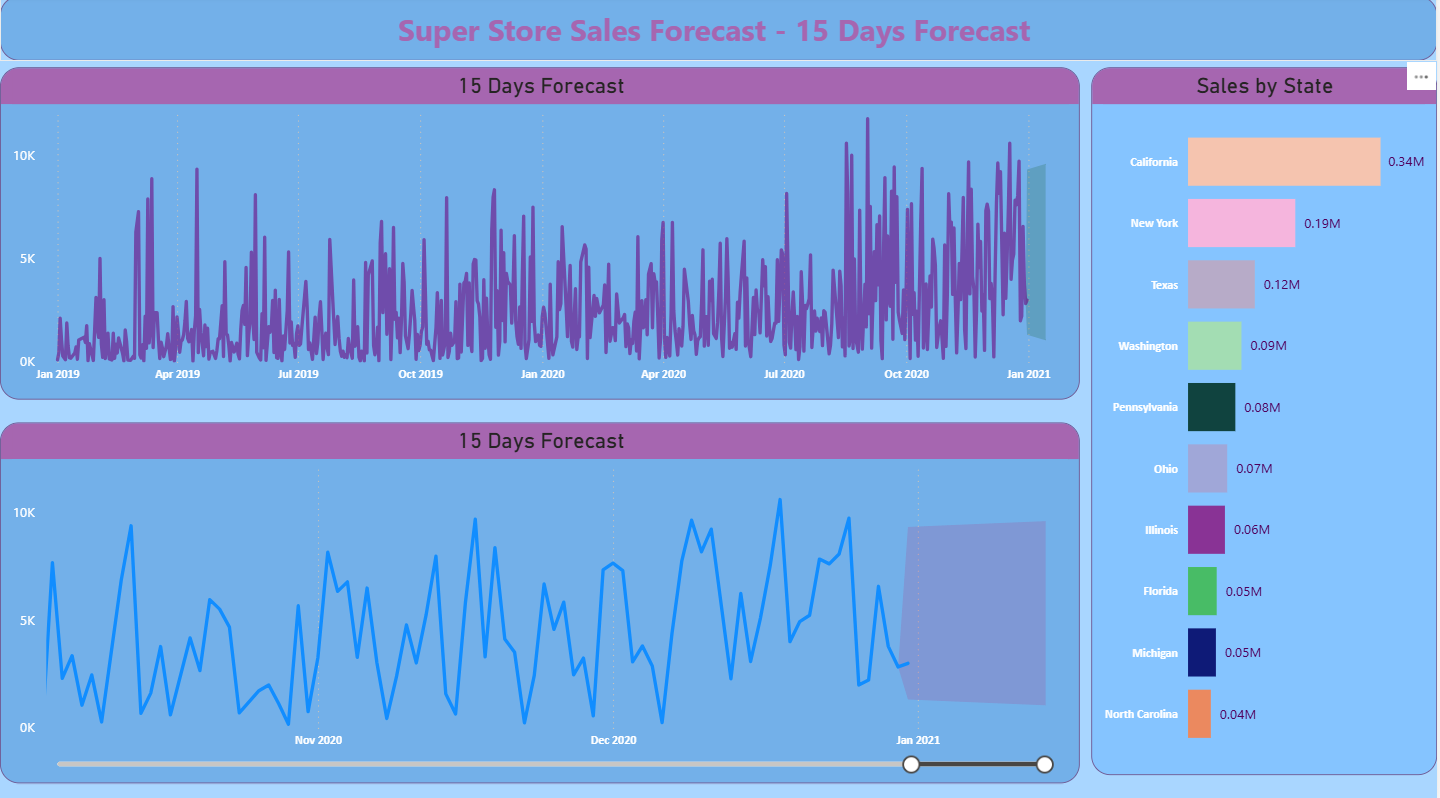

What the dashboard file says about the page in this screenshot:
{"tool":"powerbi","page":{"name":"15 Days Forecast","canvas":[1280,720],"ordinal":1},"visuals":[{"type":"lineChart","title":"15 Days Forecast","fields":{"Y":["Sum(SuperStore_Sales_Dataset.Sales)"],"Category":["SuperStore_Sales_Dataset.Order Date.Variation.Date Hierarchy.Year","SuperStore_Sales_Dataset.Order Date.Variation.Date Hierarchy.Quarter","SuperStore_Sales_Dataset.Order Date.Variation.Date Hierarchy.Month","SuperStore_Sales_Dataset.Order Date.Variation.Date Hierarchy.Day"]},"box":[0,63.8,962,295.7],"z":0},{"type":"lineChart","title":"15 Days Forecast","fields":{"Y":["Sum(SuperStore_Sales_Dataset.Sales)"],"Category":["SuperStore_Sales_Dataset.Order Date"]},"box":[0,379.1,962,321.5],"z":1000},{"type":"barChart","title":"Sales by State","fields":{"Category":["SuperStore_Sales_Dataset.State"],"Y":["Sum(SuperStore_Sales_Dataset.Sales)"]},"box":[971.8,63.8,308,630.7],"z":2000},{"type":"textbox","box":[0,0,1279.8,57.7],"z":3000}]}

Visuals, with their boxes in screenshot pixels (x1, y1, x2, y2), scaled from the page's 1280x720 canvas onto the 1440x798 screenshot:
"15 Days Forecast" lineChart: <bbox>0, 71, 1082, 398</bbox>
"15 Days Forecast" lineChart: <bbox>0, 420, 1082, 776</bbox>
"Sales by State" barChart: <bbox>1093, 71, 1439, 770</bbox>
textbox: <bbox>0, 0, 1439, 64</bbox>
